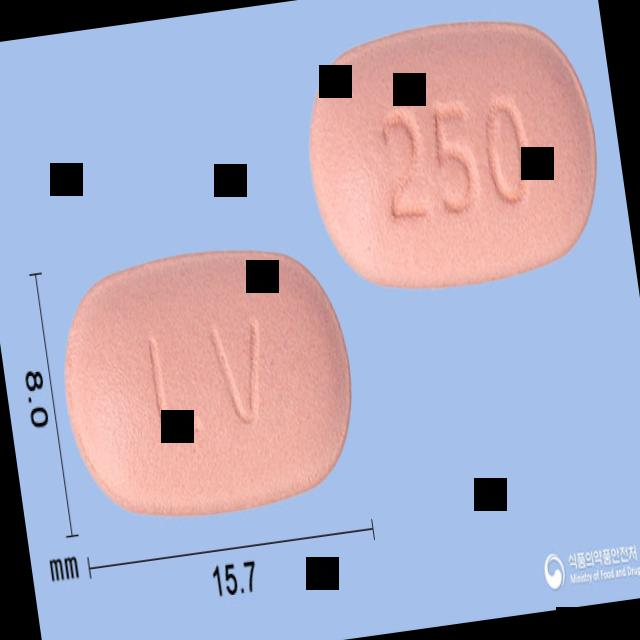Lexacin: (295, 5, 612, 302), (47, 235, 366, 530)
